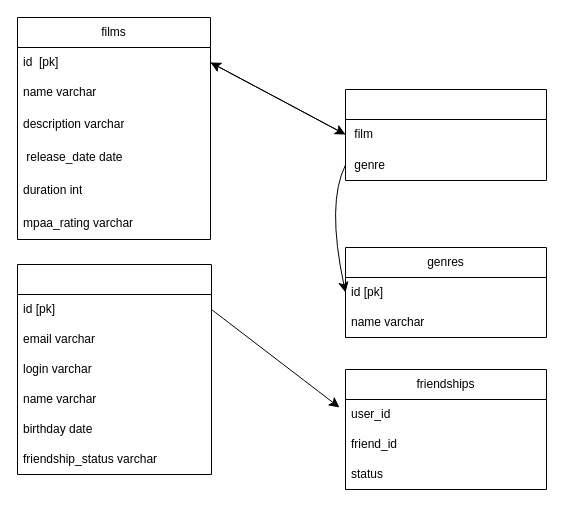
Image size: 564x507. Some labels were removed from this diagram. The box of each missing label's shape, as (x1, y1, x2, y2) in pixels:
film_genres: (344, 88, 546, 180)
users: (16, 264, 212, 474)
